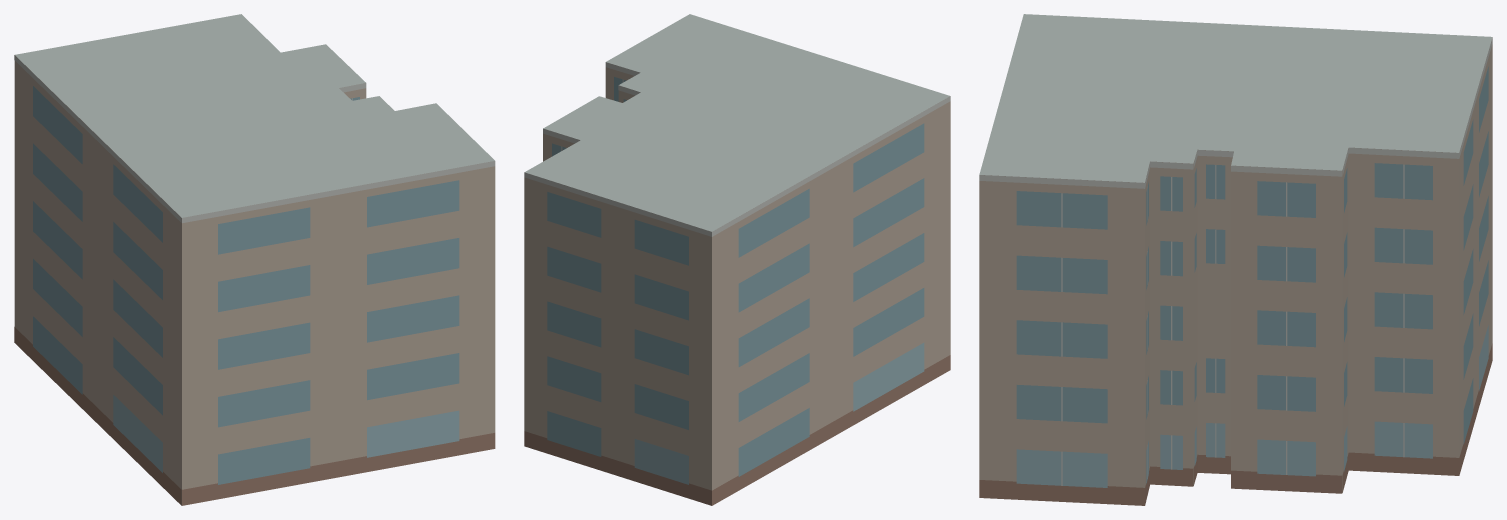
The model's file is survey-upis-32658331.glb.
3 renders of one model, left to right at view 1: azimuth 30°, elevation 25°; view 2: azimuth 150°, elevation 25°; view 3: azimuth 270°, elevation 25°, orthographic. The views are drawn at different scales.
Visible parts, largest first — view 1: survey-upis-32658331.tmp; view 2: survey-upis-32658331.tmp; view 3: survey-upis-32658331.tmp.
Boxes of the visible parts, x1=… form: survey-upis-32658331.tmp: x1=14, y1=14, x2=495, y2=505; survey-upis-32658331.tmp: x1=524, y1=14, x2=950, y2=505; survey-upis-32658331.tmp: x1=979, y1=14, x2=1492, y2=505.
Size of the model in its own units: 14.75 by 13.15 by 18.95.
